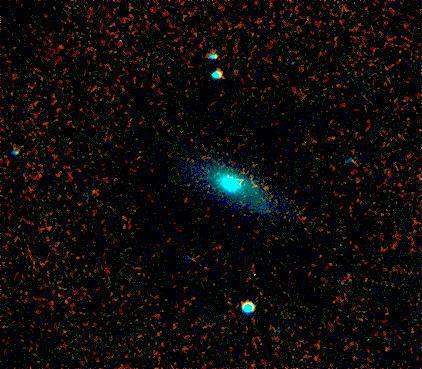star: (79, 175, 109, 205)
